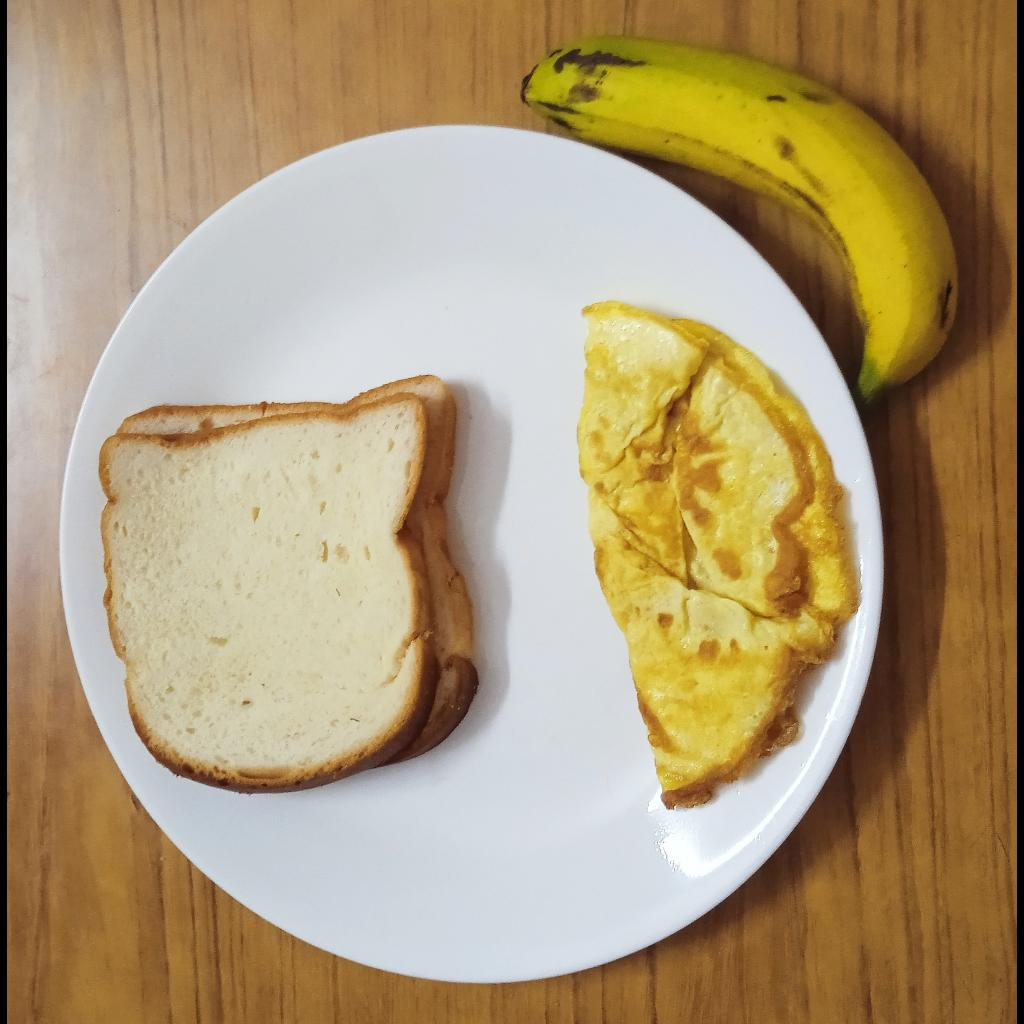banana: (518, 38, 960, 399)
bread: (95, 372, 483, 793)
egg-poached: (576, 305, 868, 817)
